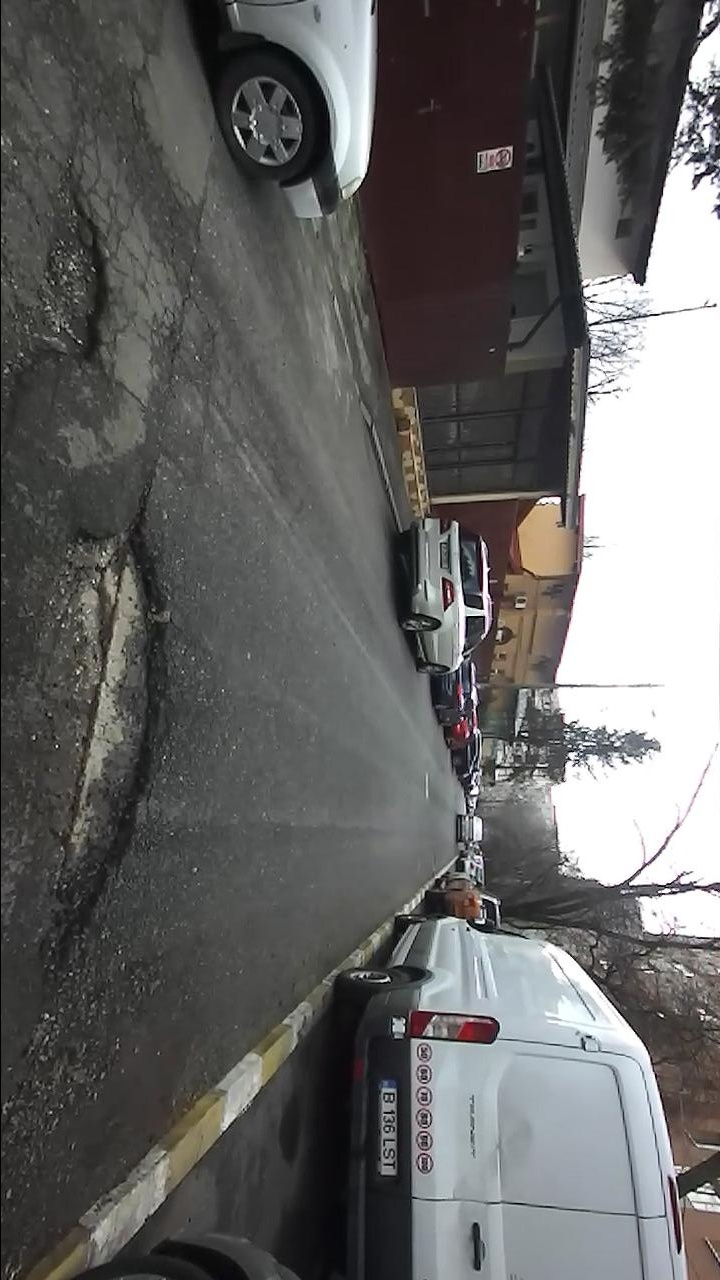pothole: (10, 485, 176, 1010), (8, 171, 112, 388)
